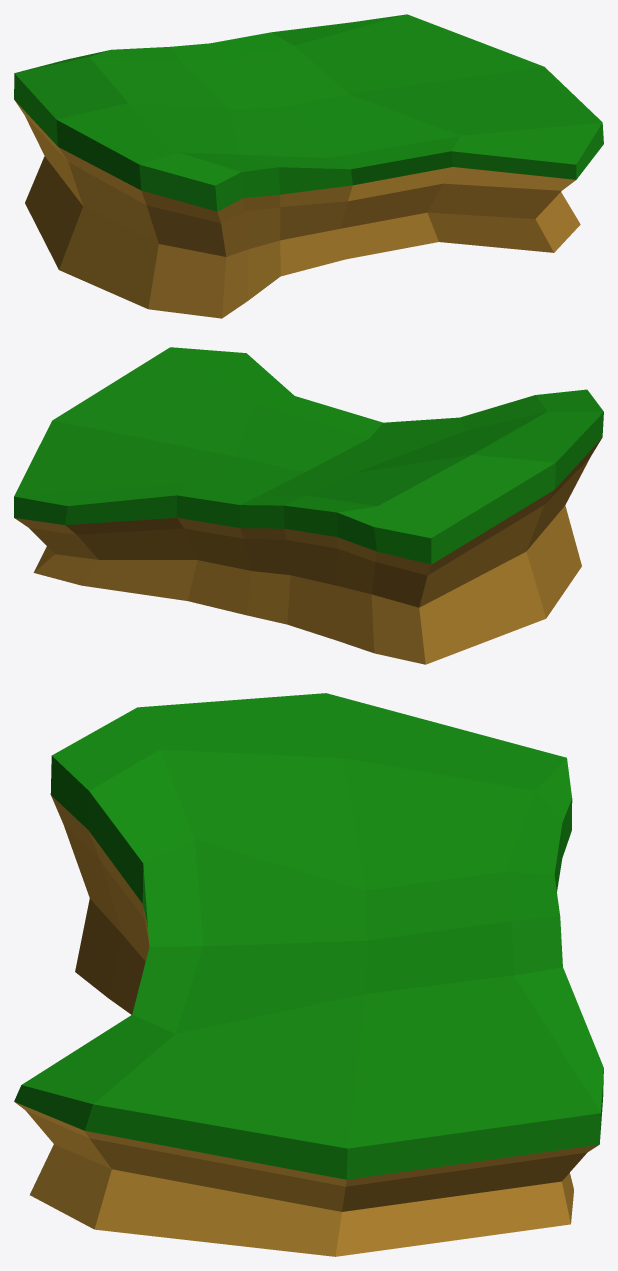
The model's file is Terrain Part.obj.
The picture shows the model from 3 angles, top to bottom: view 1: azimuth 30°, elevation 25°; view 2: azimuth 150°, elevation 25°; view 3: azimuth 270°, elevation 25°; orthographic projection. The views are drawn at different scales.
Parts seen in each view (by area): view 1: Plane; view 2: Plane; view 3: Plane.
Part boxes in pixels (box(x1,y1,x2,y2)): Plane: box(14, 14, 603, 318); Plane: box(14, 347, 603, 664); Plane: box(14, 693, 603, 1256).
Bounding box in the file's own units: 2.76 × 0.8631 × 1.97.
